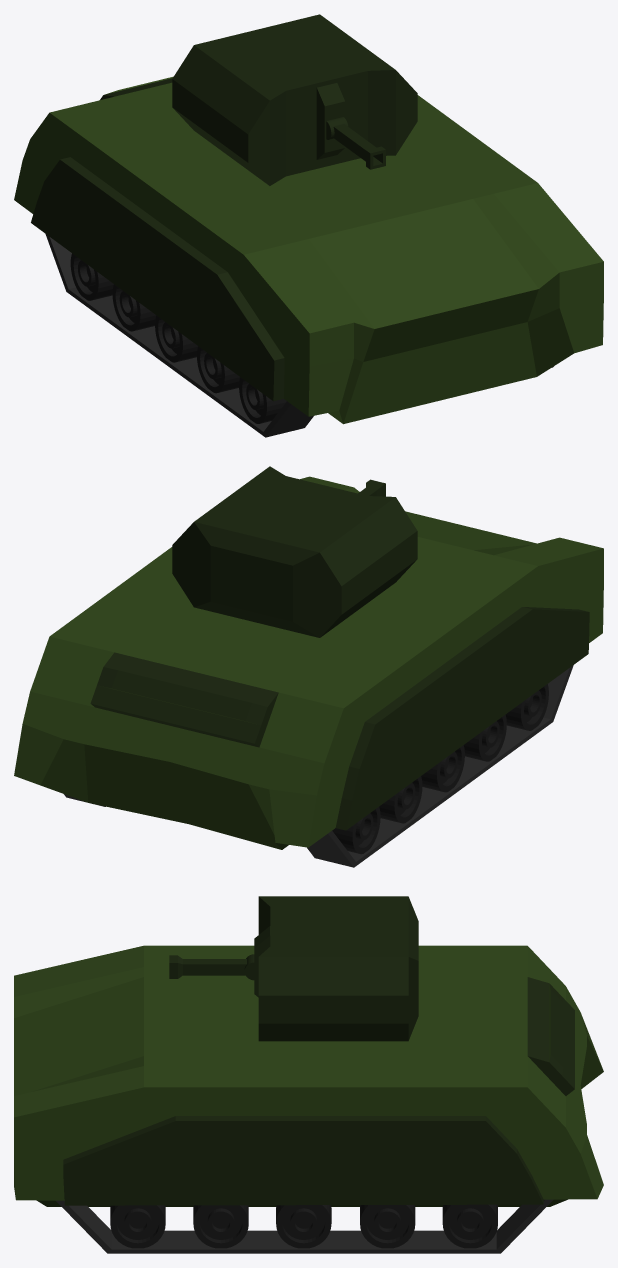
The model's file is tier1.obj.
3 renders of one model, top to bottom at view 1: azimuth 30°, elevation 25°; view 2: azimuth 150°, elevation 25°; view 3: azimuth 270°, elevation 25°, orthographic.
Visible parts, largest first — view 1: Body7_Cube.061, Turret7_Cube.036, Road_Wheels7_Cube.062, Tracks7_Cube.060, Main_Gun7_Cube.037; view 2: Body7_Cube.061, Turret7_Cube.036, Road_Wheels7_Cube.062, Tracks7_Cube.060; view 3: Body7_Cube.061, Turret7_Cube.036, Road_Wheels7_Cube.062, Tracks7_Cube.060, Main_Gun7_Cube.037.
Part boxes in pixels (x1,y1,x2,y2): Body7_Cube.061: (14, 76, 603, 424); Turret7_Cube.036: (172, 14, 417, 185); Road_Wheels7_Cube.062: (70, 253, 286, 423); Tracks7_Cube.060: (45, 234, 553, 437); Main_Gun7_Cube.037: (326, 117, 385, 169); Body7_Cube.061: (14, 476, 603, 849); Turret7_Cube.036: (172, 466, 417, 637); Road_Wheels7_Cube.062: (332, 684, 548, 854); Tracks7_Cube.060: (64, 665, 573, 867); Body7_Cube.061: (14, 945, 603, 1206); Turret7_Cube.036: (254, 896, 418, 1041); Road_Wheels7_Cube.062: (110, 1204, 497, 1248); Tracks7_Cube.060: (56, 1199, 553, 1253); Main_Gun7_Cube.037: (169, 954, 254, 980).
Bounding box in the file's own units: 3.86 × 3.05 × 6.33.
